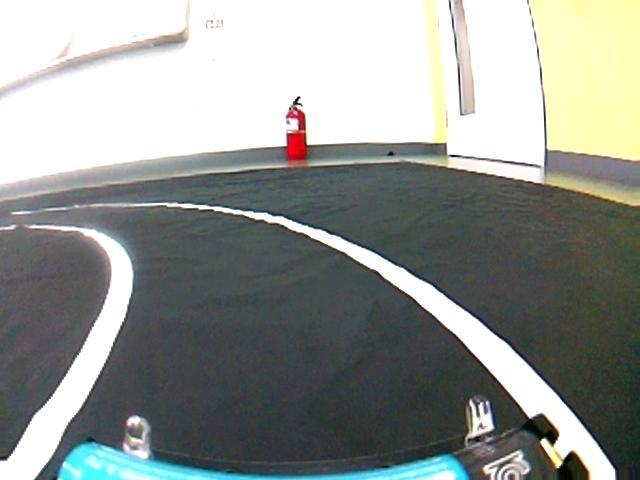straight: (0, 262, 627, 478)
